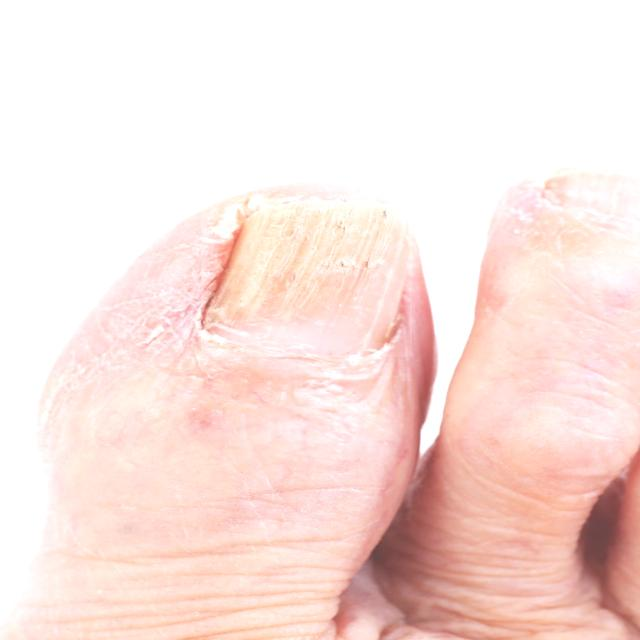diabetes: (202, 198, 412, 357)
